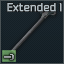HK Extended Latch charging handle: (0, 0, 64, 64)
